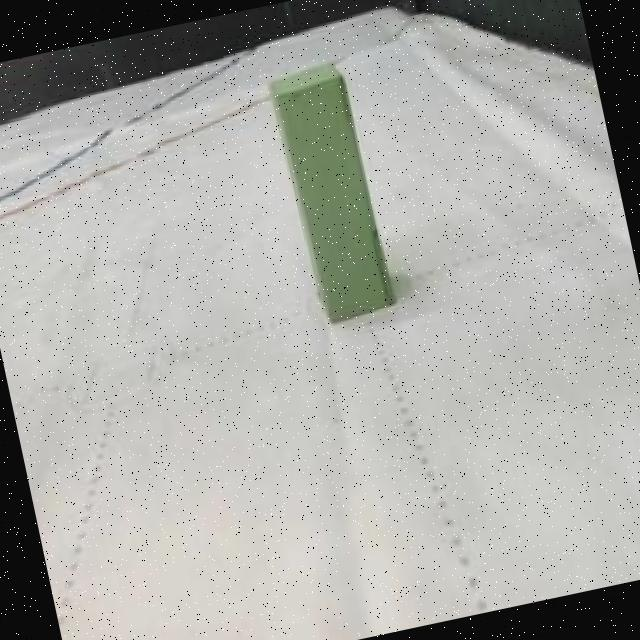greenbox: (262, 56, 394, 324)
